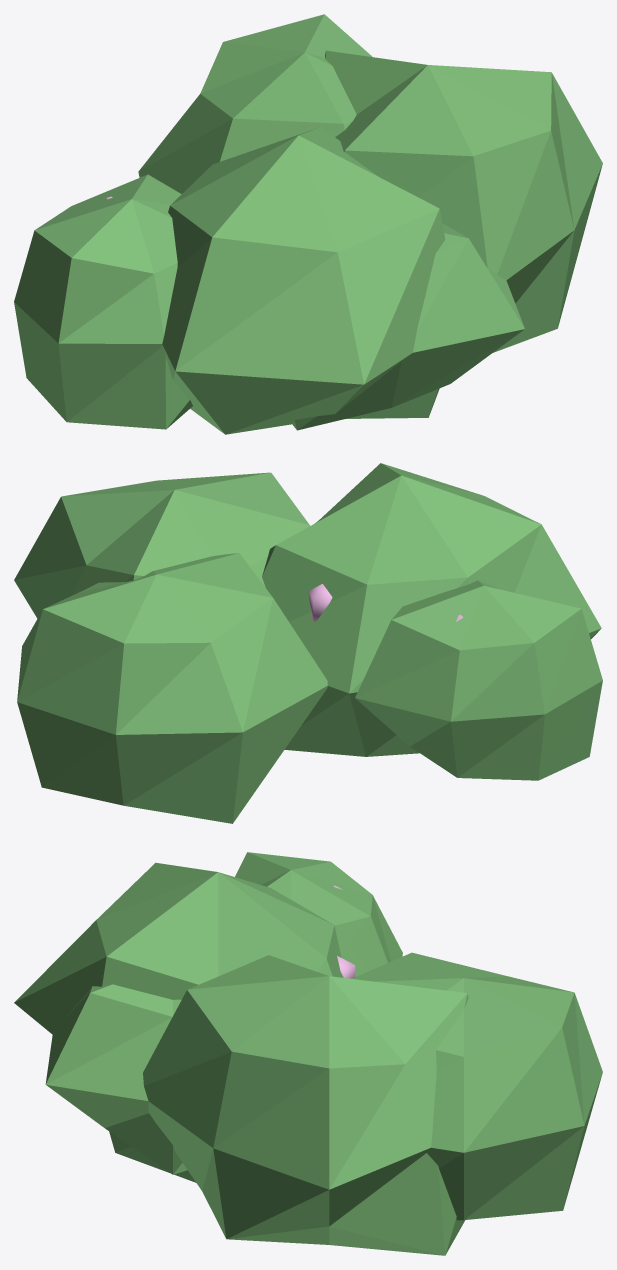
File: bush_flowers.glb
3 views of the same model, one above another, from view 1: azimuth 30°, elevation 25°; view 2: azimuth 150°, elevation 25°; view 3: azimuth 270°, elevation 25° (orthographic). The views are drawn at different scales.
Parts seen in each view (by area): view 1: bush_flowers; view 2: bush_flowers; view 3: bush_flowers.
Boxes of the visible parts, <box> form: bush_flowers: <box>14,14,602,434</box>; bush_flowers: <box>14,463,602,823</box>; bush_flowers: <box>14,852,602,1255</box>.
Size of the model in its own units: 2.58 by 1.26 by 2.36.
